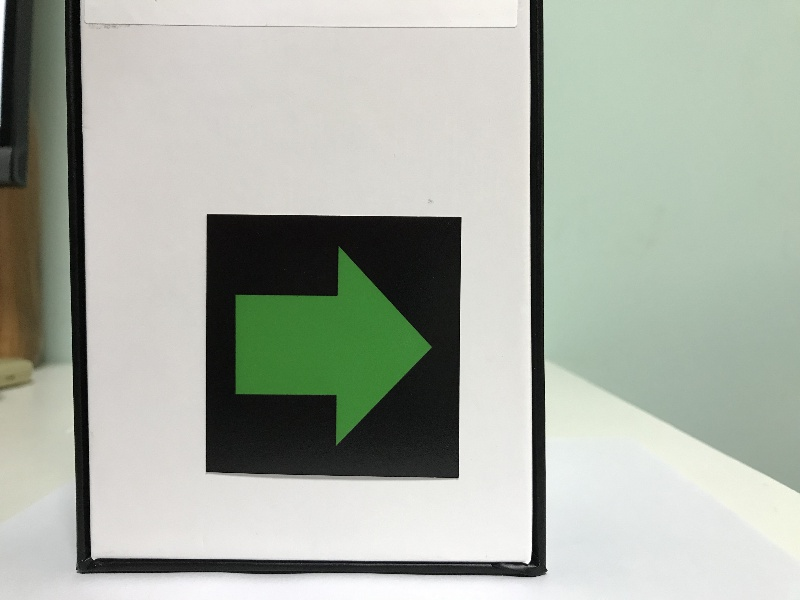RA-3: (209, 217, 455, 471)
